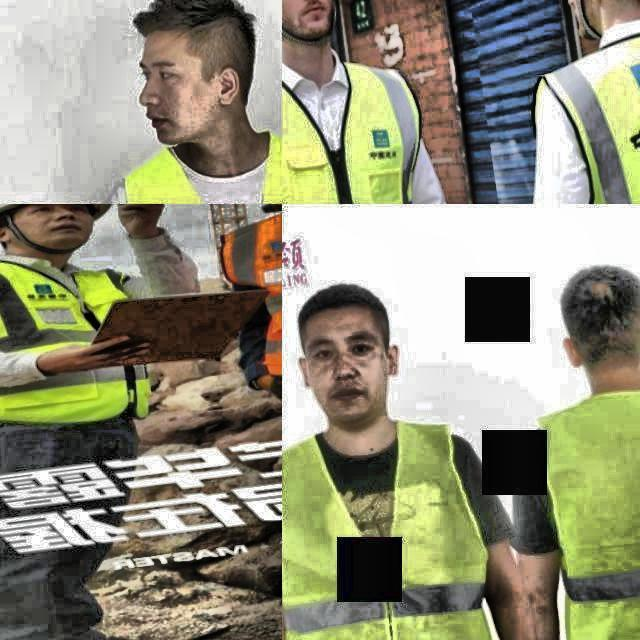safety_jacket: (282, 418, 495, 640), (538, 384, 640, 640), (0, 263, 148, 435), (282, 66, 434, 204), (102, 128, 282, 204)
